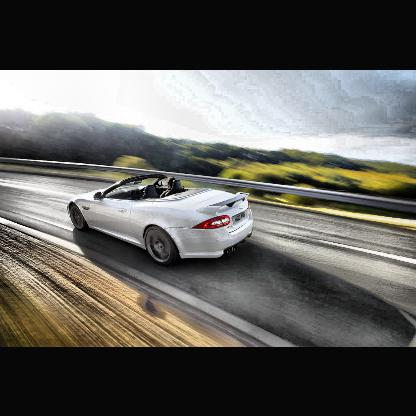Jaguar XK XKR 2012: (60, 157, 259, 282)
